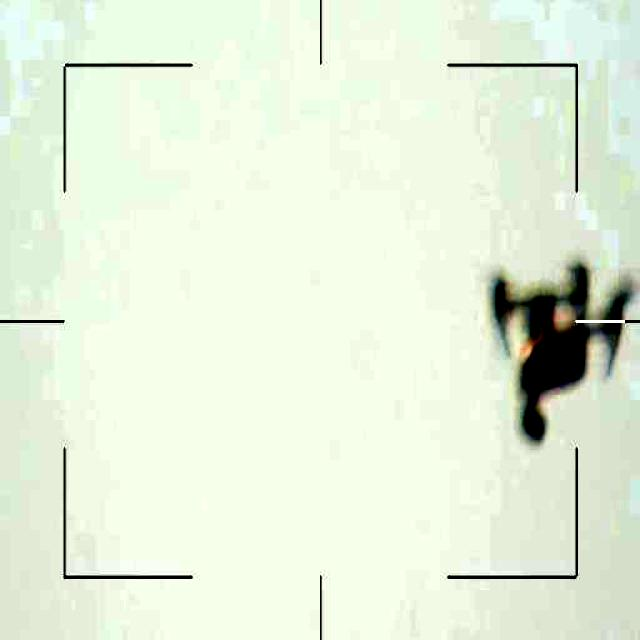bird: (476, 262, 630, 444)
